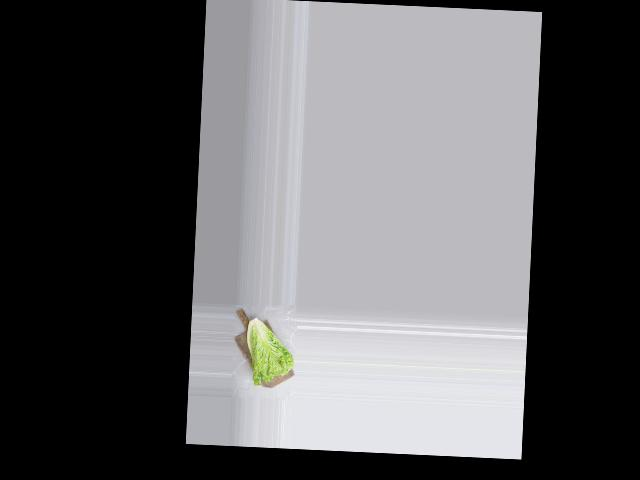lettuce: (237, 314, 295, 387)
